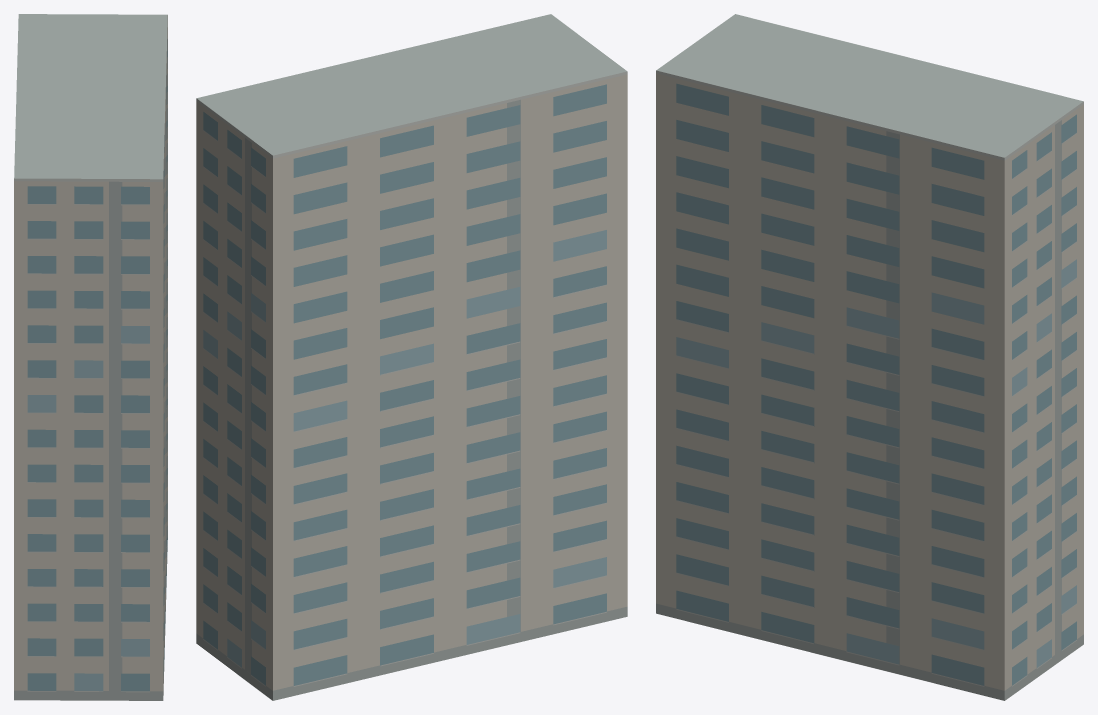
File: residential-8d564636-60db-4b6e-903c-df57ba10b999.glb
3 views of the same model, side by side, from view 1: azimuth 30°, elevation 25°; view 2: azimuth 150°, elevation 25°; view 3: azimuth 270°, elevation 25° (orthographic). The views are drawn at different scales.
Visible parts, largest first — view 1: residential-8d564636-60db-4b6e-903c-df57ba10b999.tmp; view 2: residential-8d564636-60db-4b6e-903c-df57ba10b999.tmp; view 3: residential-8d564636-60db-4b6e-903c-df57ba10b999.tmp.
Part boxes in pixels (<box>): residential-8d564636-60db-4b6e-903c-df57ba10b999.tmp: <box>14,14,167,700</box>; residential-8d564636-60db-4b6e-903c-df57ba10b999.tmp: <box>196,14,627,700</box>; residential-8d564636-60db-4b6e-903c-df57ba10b999.tmp: <box>656,14,1083,700</box>.
Bounding box in the file's own units: 25.56 × 45 × 32.13.
